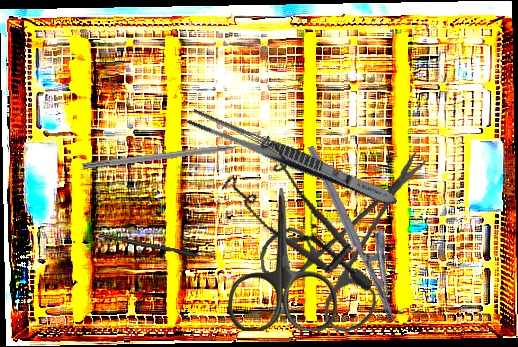Dressing Forceps: (185, 106, 401, 212)
Hook Surgical: (82, 139, 264, 172), (98, 232, 213, 262)
Iris Scissors: (252, 150, 441, 340), (227, 188, 338, 331)
Needle Holder: (306, 133, 420, 323)
Speculum: (205, 126, 406, 294)
